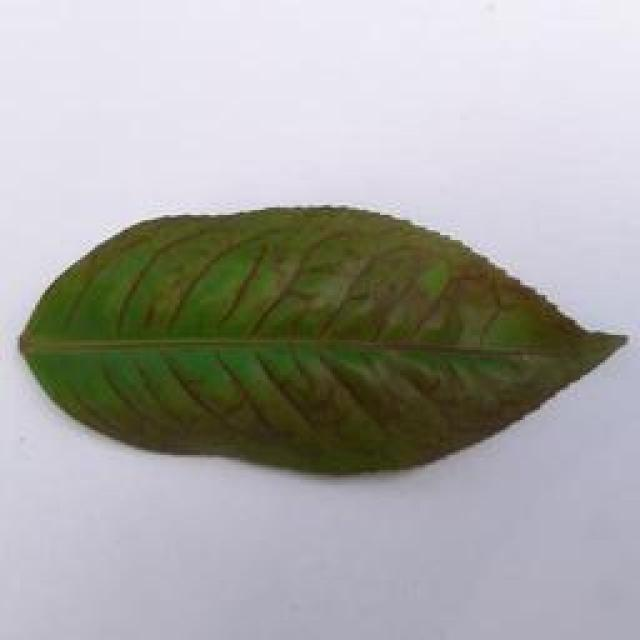Red Leaf Spot: (10, 199, 640, 491)
